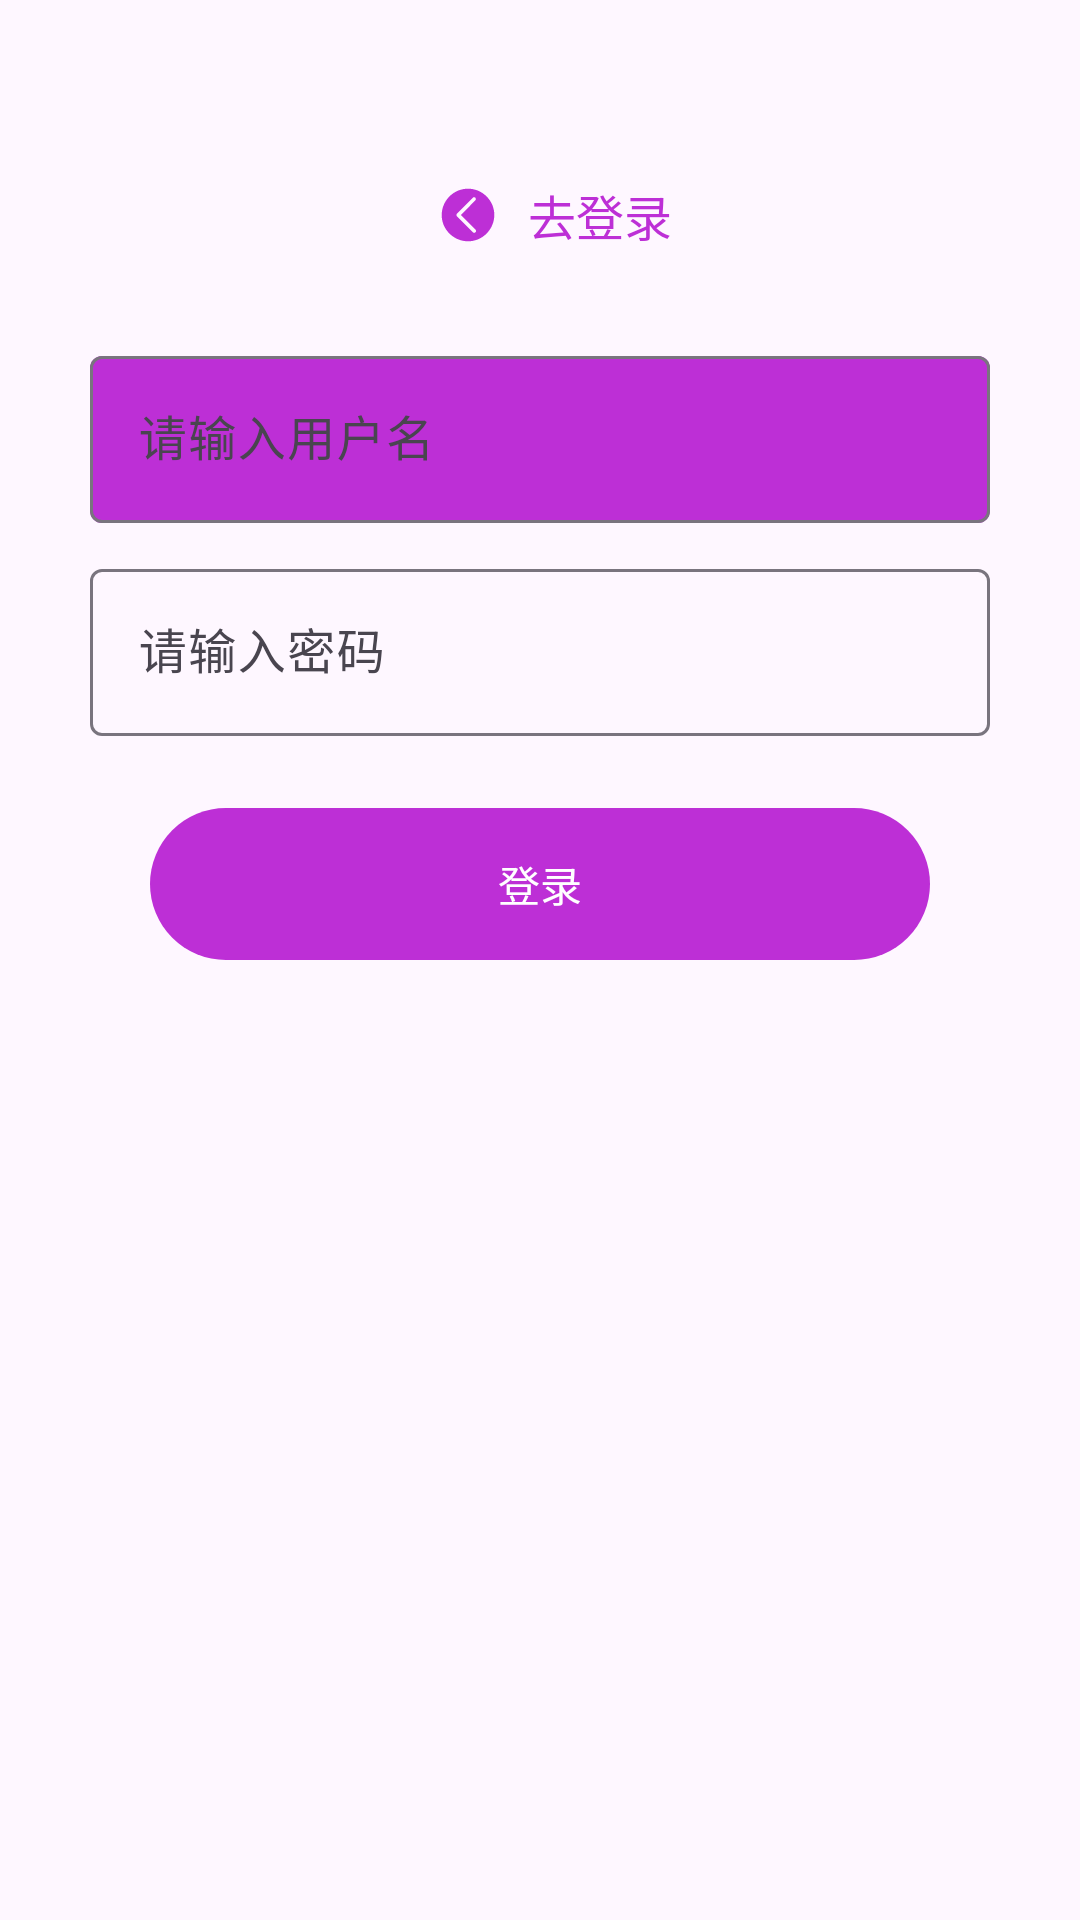

Locate icon controls on the screen. Image size 1080x1920, boxes as BBox(x1, y1, x2, y2).
fanhuitianchong: BBox(441, 188, 495, 242)
